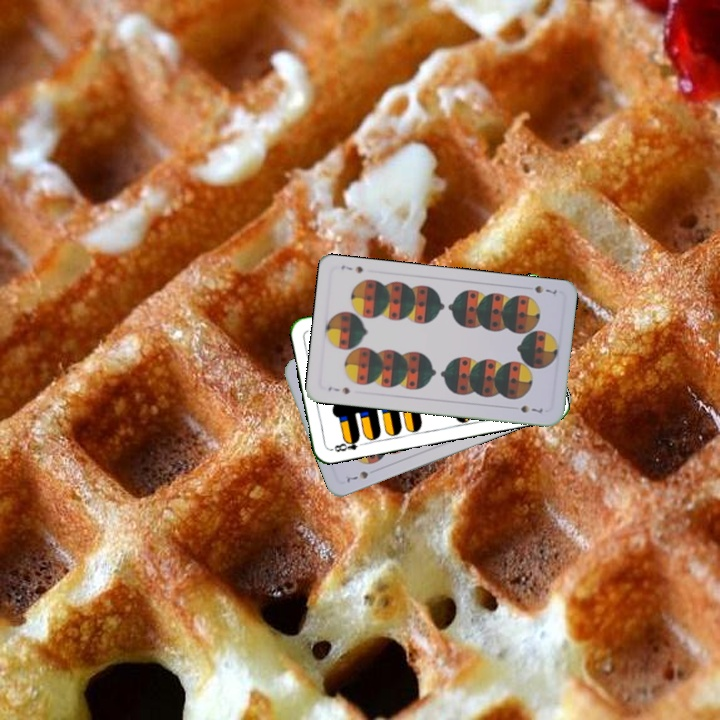E8: (327, 433, 368, 455)
S7: (342, 467, 371, 485), (531, 281, 559, 296), (324, 383, 352, 397)
